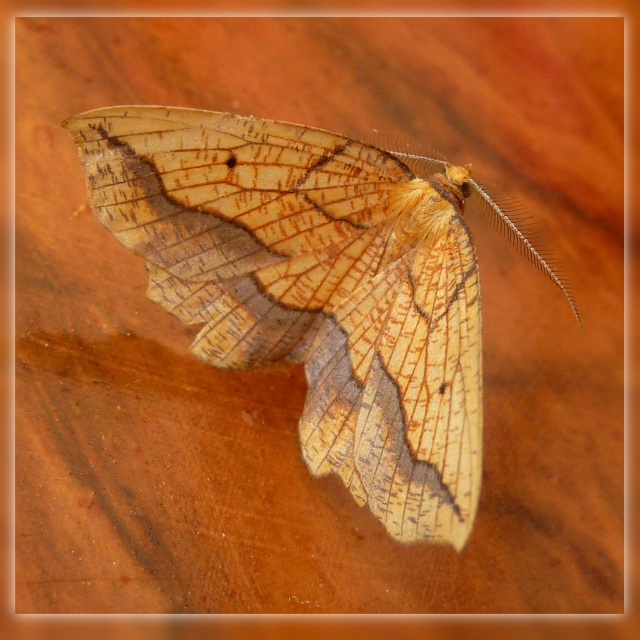Butterfly: (60, 40, 562, 554)
